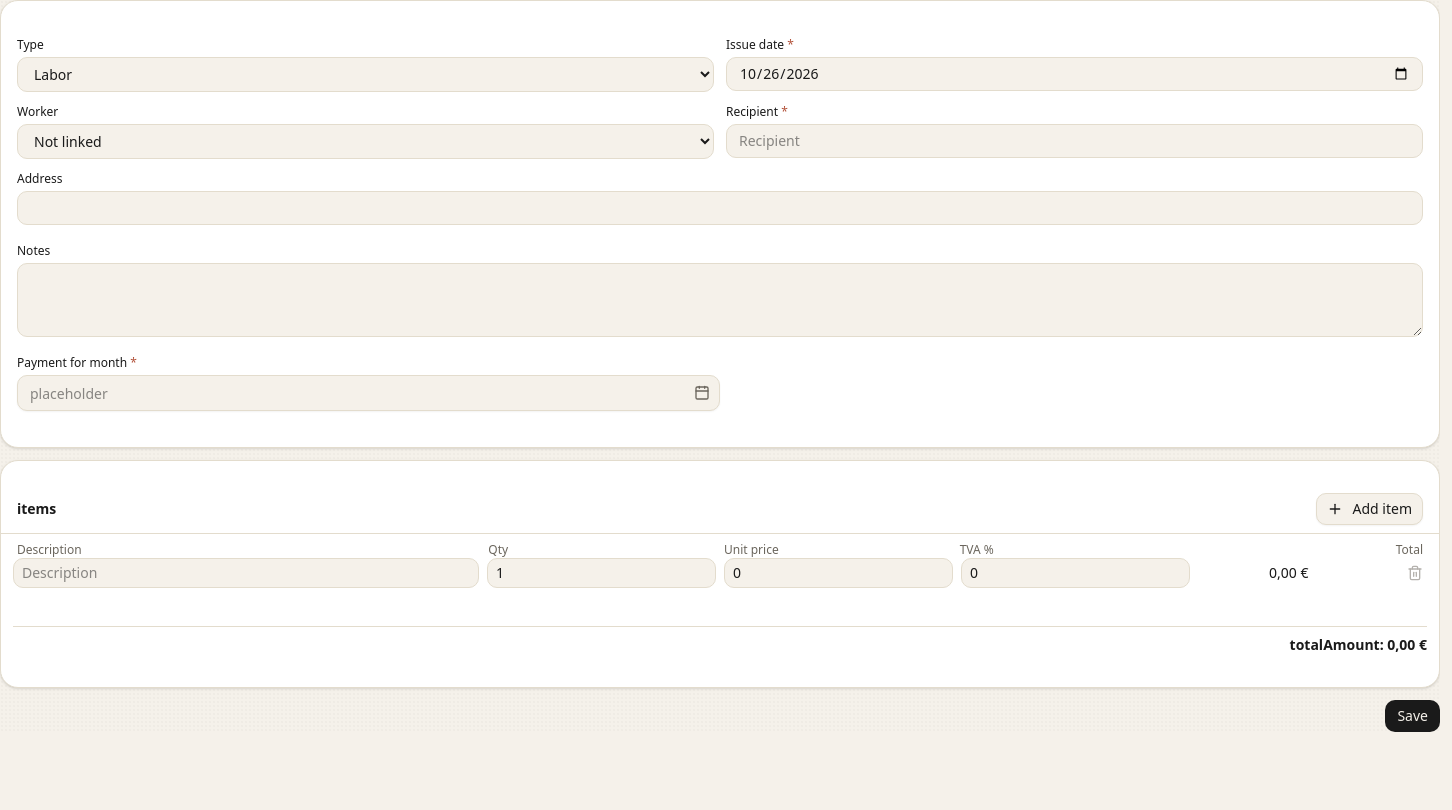
it: InvoiceForm — labor worker picker › maps worker_link_not_allowed and worker_not_in_project backend errors
Type "2026-06" into the field with test id "service-month-input".
click(368, 393); type("2026-06")  # box [17,375,720,411]
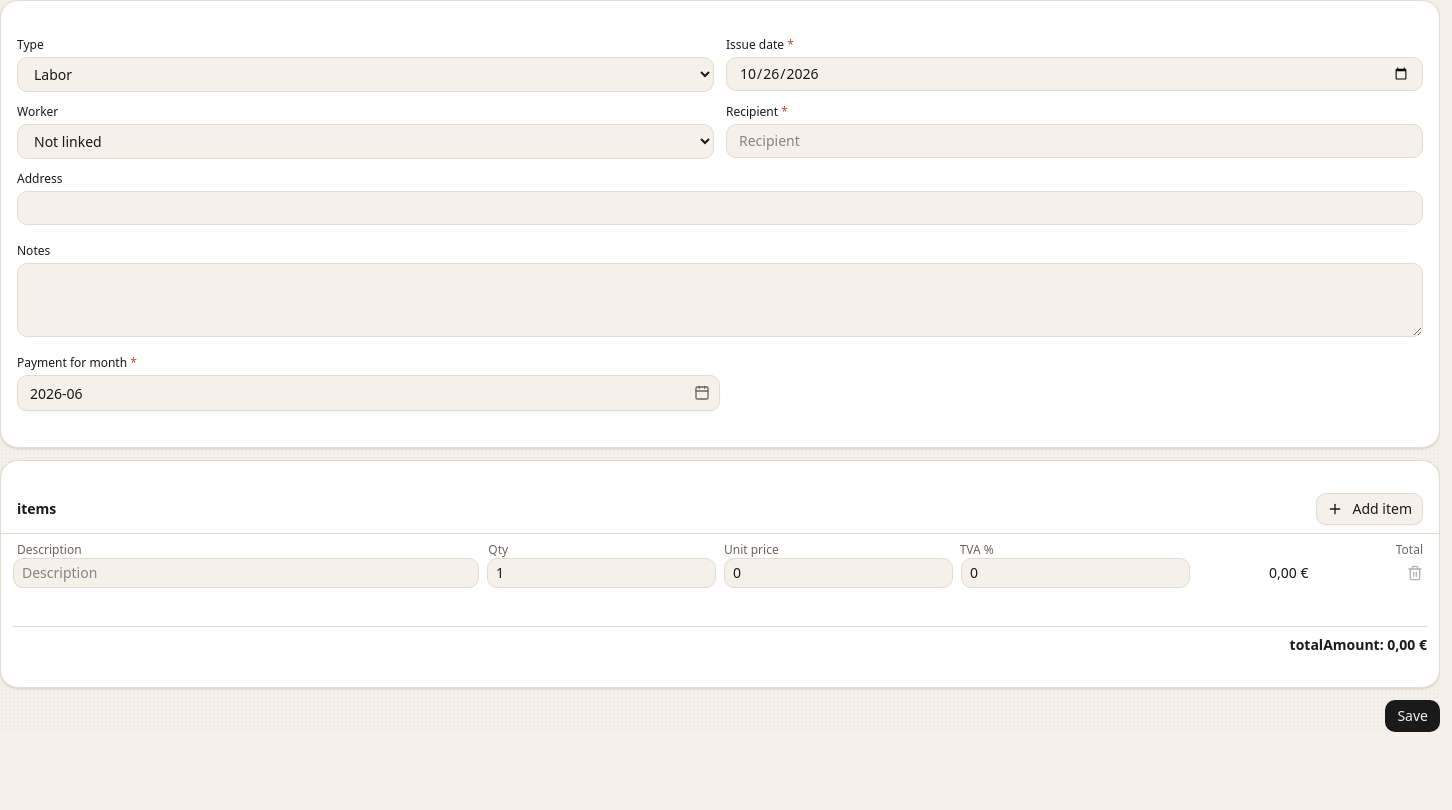
Type "June Worker" into the field with test id "unlinked-labor-recipient-input".
click(1074, 141); type("June Worker")  # box [726,124,1423,158]
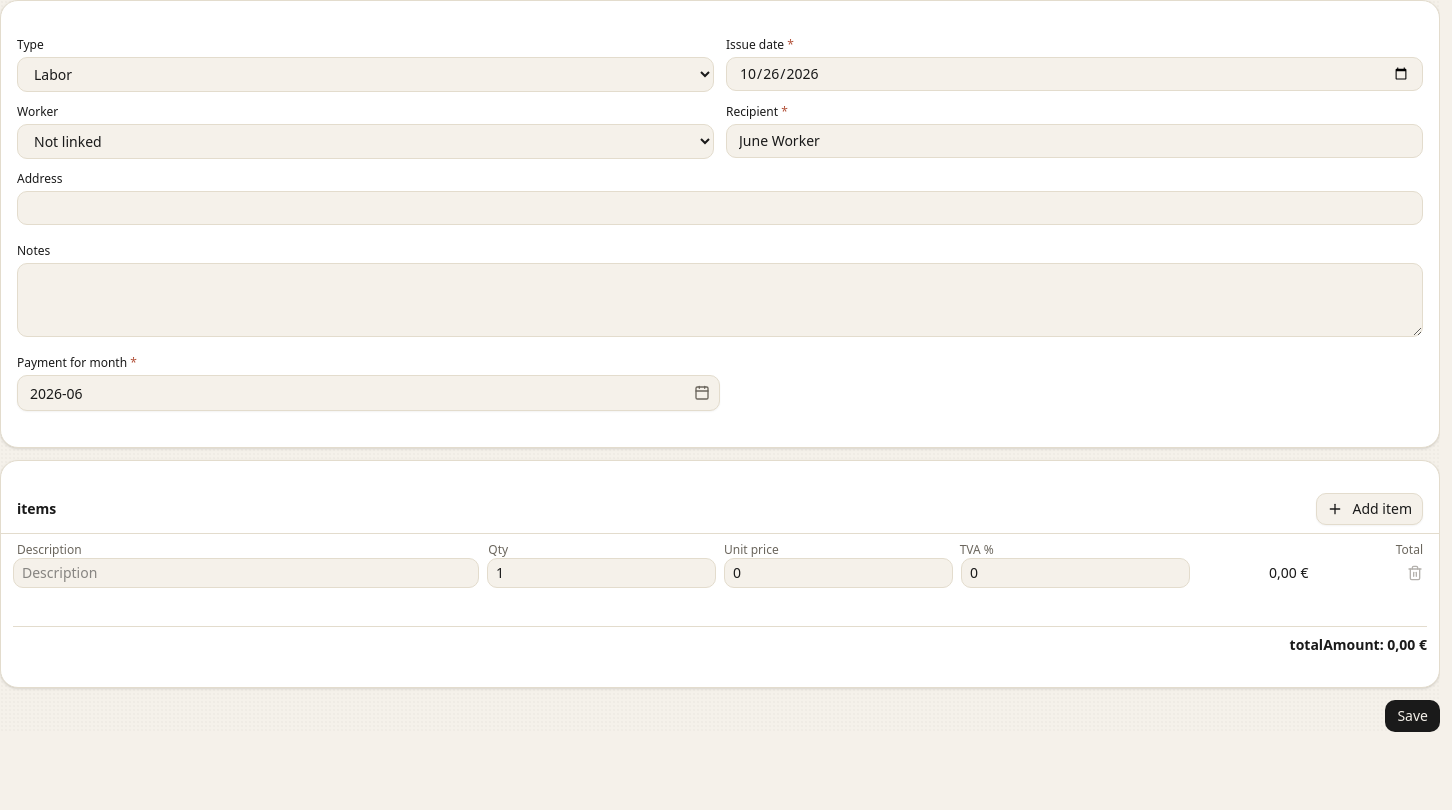
Type "June labor" into the field with placeholder "Description".
click(246, 573); type("June labor")  # box [13,558,479,588]
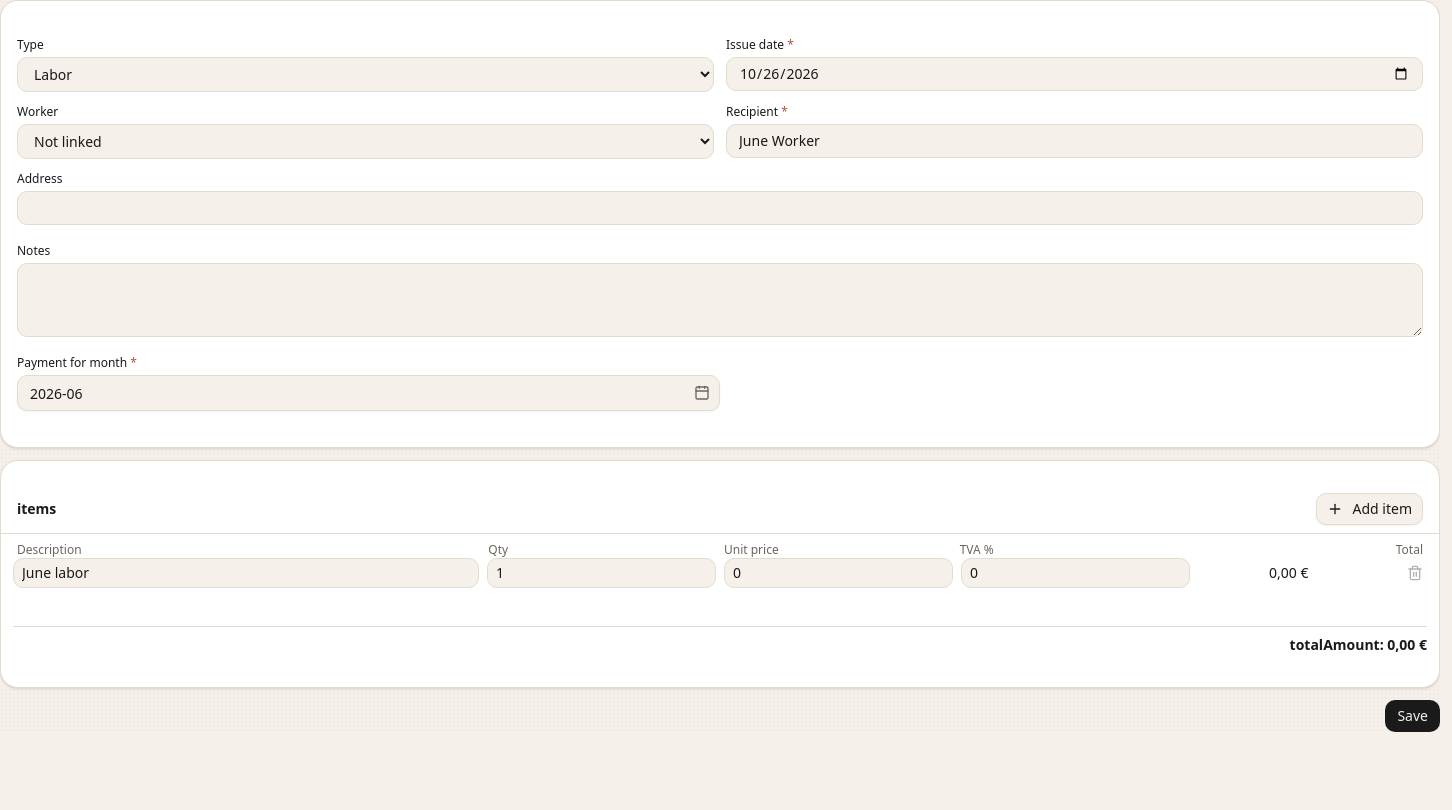
Click the button "Save".
click(1413, 716)  # box [1385,700,1440,732]
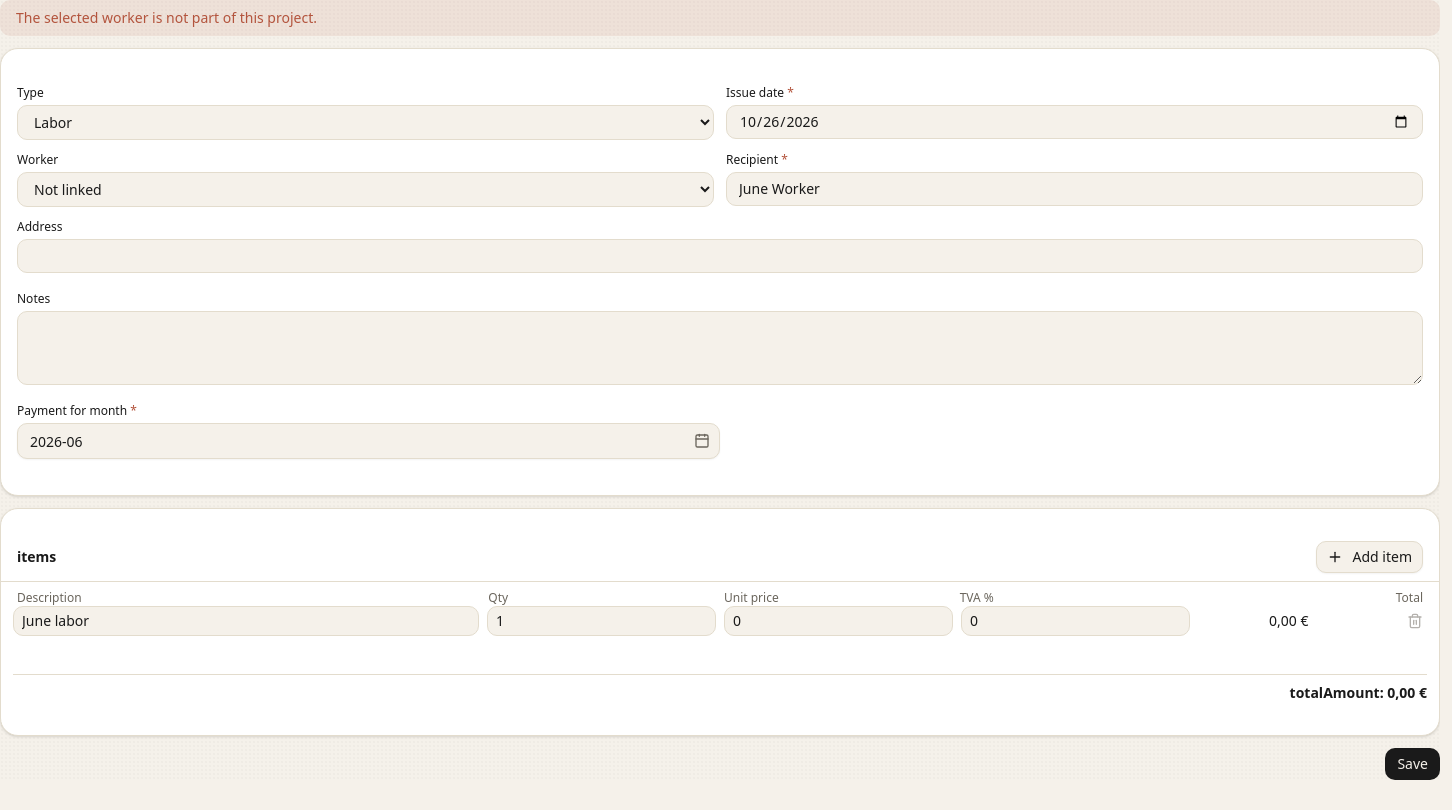
Expected: the text "The selected worker is not part of this project." is shown, [0,0,1440,36]
